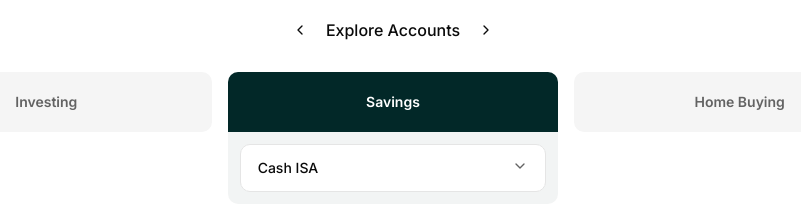
Test: CategoryCarousel › advances to next category on clicking next button
Step 1. Click the button named "Next category" → (486, 30), box [468,12,504,48]
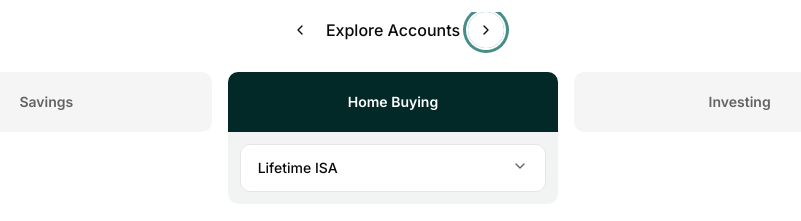
Now the element named "Home Buying products" shows "Home Buying", box [348,93,438,110]
